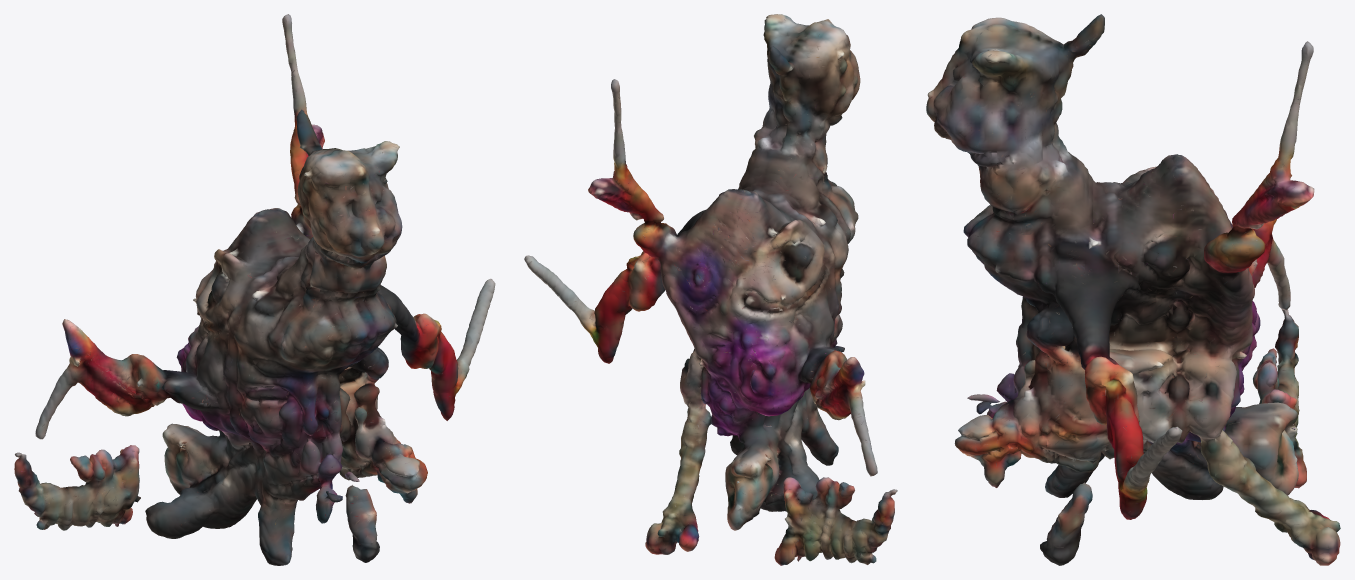
The model's file is NJSM_GoingChimeric.glb.
The picture shows the model from 3 angles, left to right: view 1: azimuth 30°, elevation 25°; view 2: azimuth 150°, elevation 25°; view 3: azimuth 270°, elevation 25°; orthographic projection. The views are drawn at different scales.
Parts seen in each view (by area): view 1: Trippo3D; view 2: Trippo3D; view 3: Trippo3D.
Part boxes in pixels (bbox=[...]): Trippo3D: bbox=[14, 14, 495, 565]; Trippo3D: bbox=[524, 14, 897, 565]; Trippo3D: bbox=[926, 14, 1340, 565].
Bounding box in the file's own units: 0.9435 × 0.9865 × 0.6729.
1 material, 1 textured.
